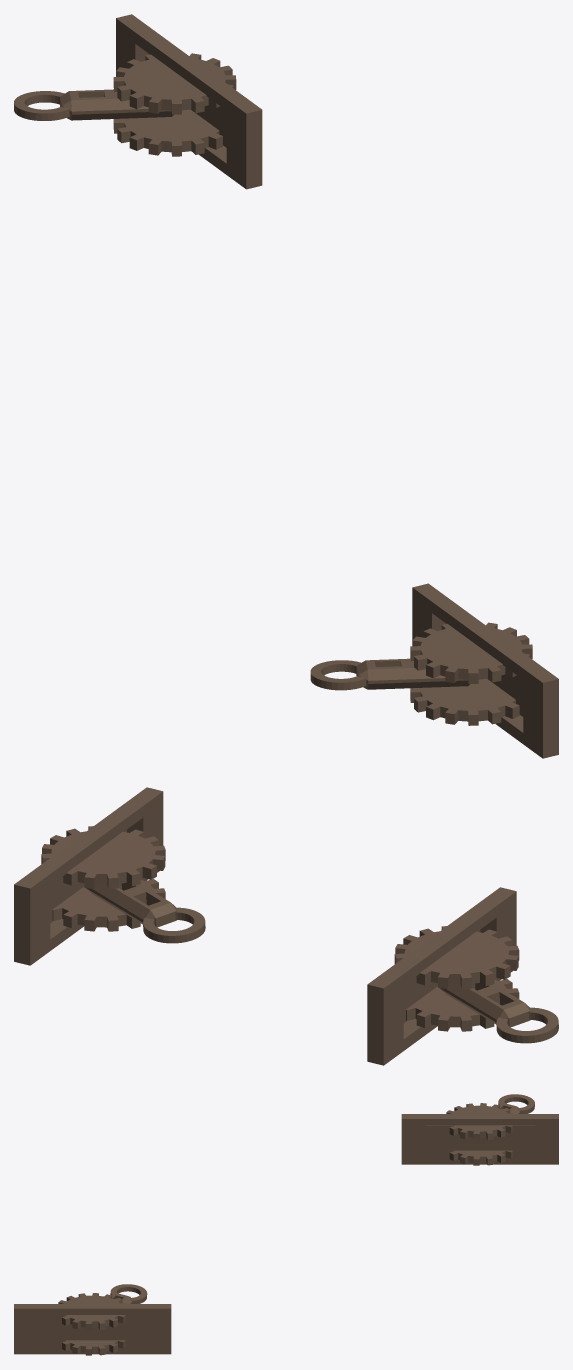
Rendered from cog_switch_original.fbx.
The picture shows the model from 3 angles, top to bottom: view 1: azimuth 30°, elevation 25°; view 2: azimuth 150°, elevation 25°; view 3: azimuth 270°, elevation 25°; orthographic projection. The views are drawn at different scales.
Visible parts, largest first — view 1: Cylinder.001, Cylinder.003, Cube.001, Cube.002, Cube.003, Cube.004, Cylinder.004, Cylinder.002; view 2: Cube.002, Cube.001, Cylinder.003, Cylinder.001, Cube.004, Cube.003, Cylinder.004, Cylinder.002; view 3: Cube.001, Cube.002, Cylinder.001, Cylinder.003, Cylinder.004, Cylinder.002.
Part boxes in pixels (bbox=[...]): Cylinder.001: bbox=[113, 53, 236, 156]; Cylinder.003: bbox=[410, 622, 532, 725]; Cube.001: bbox=[116, 14, 262, 189]; Cube.002: bbox=[412, 583, 558, 758]; Cube.003: bbox=[356, 658, 469, 689]; Cube.004: bbox=[60, 89, 173, 120]; Cylinder.004: bbox=[310, 660, 366, 690]; Cylinder.002: bbox=[14, 91, 70, 120]; Cube.002: bbox=[367, 887, 516, 1065]; Cube.001: bbox=[14, 787, 163, 965]; Cylinder.003: bbox=[394, 926, 519, 1031]; Cylinder.001: bbox=[41, 826, 165, 931]; Cube.004: bbox=[86, 882, 176, 927]; Cube.003: bbox=[440, 982, 530, 1027]; Cylinder.004: bbox=[496, 1007, 558, 1043]; Cylinder.002: bbox=[143, 907, 205, 943]; Cube.001: bbox=[401, 1114, 558, 1164]; Cube.002: bbox=[14, 1304, 171, 1354]; Cylinder.001: bbox=[446, 1103, 514, 1165]; Cylinder.003: bbox=[58, 1293, 126, 1355]; Cylinder.004: bbox=[110, 1284, 147, 1303]; Cylinder.002: bbox=[498, 1094, 534, 1113].
Bounding box in the file's own units: 51.68 × 97.2 × 198.
